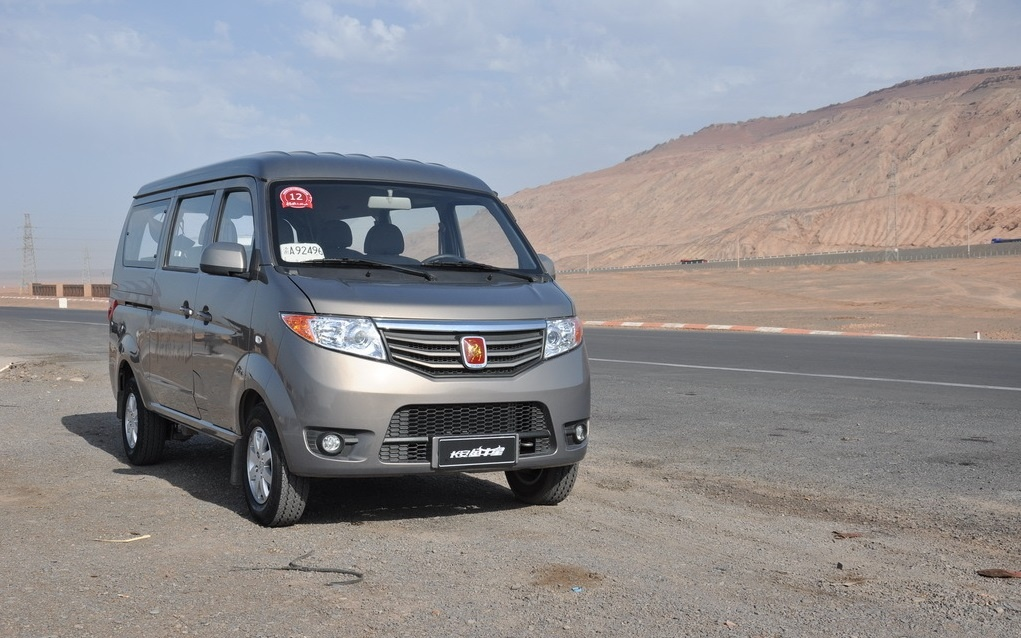minibus: (85, 137, 599, 519)
